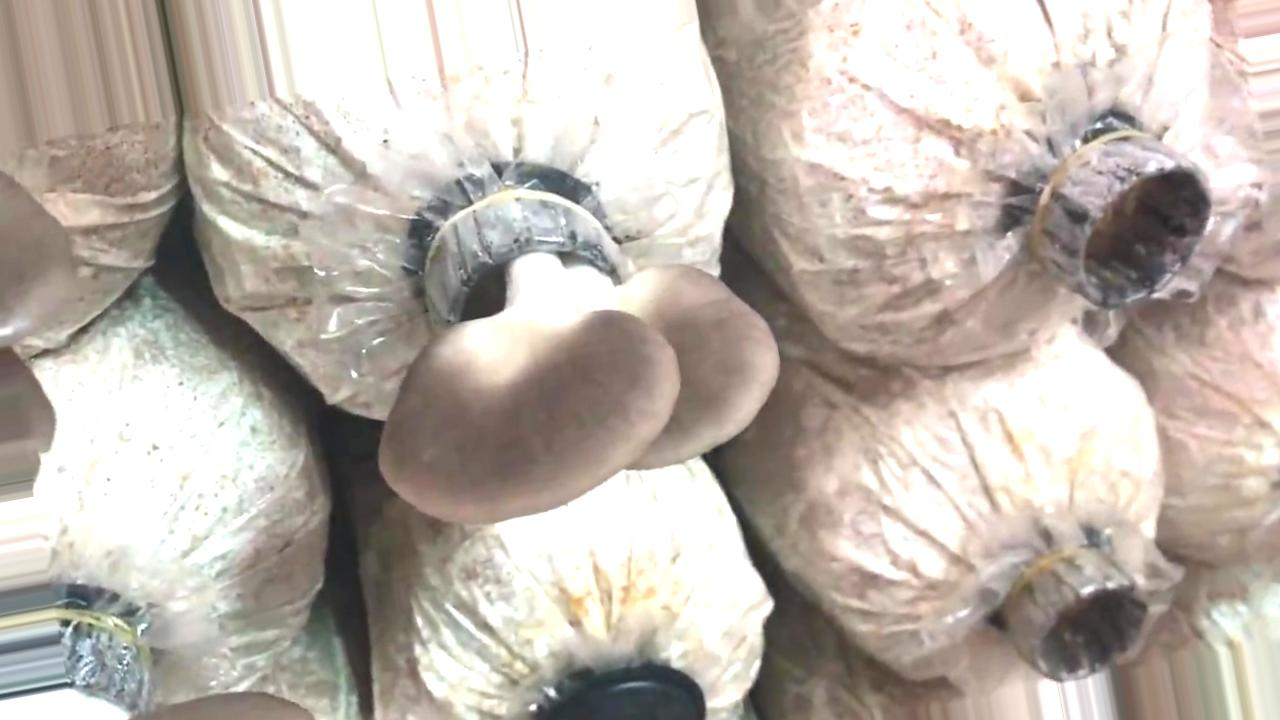nam: (377, 177, 782, 524)
